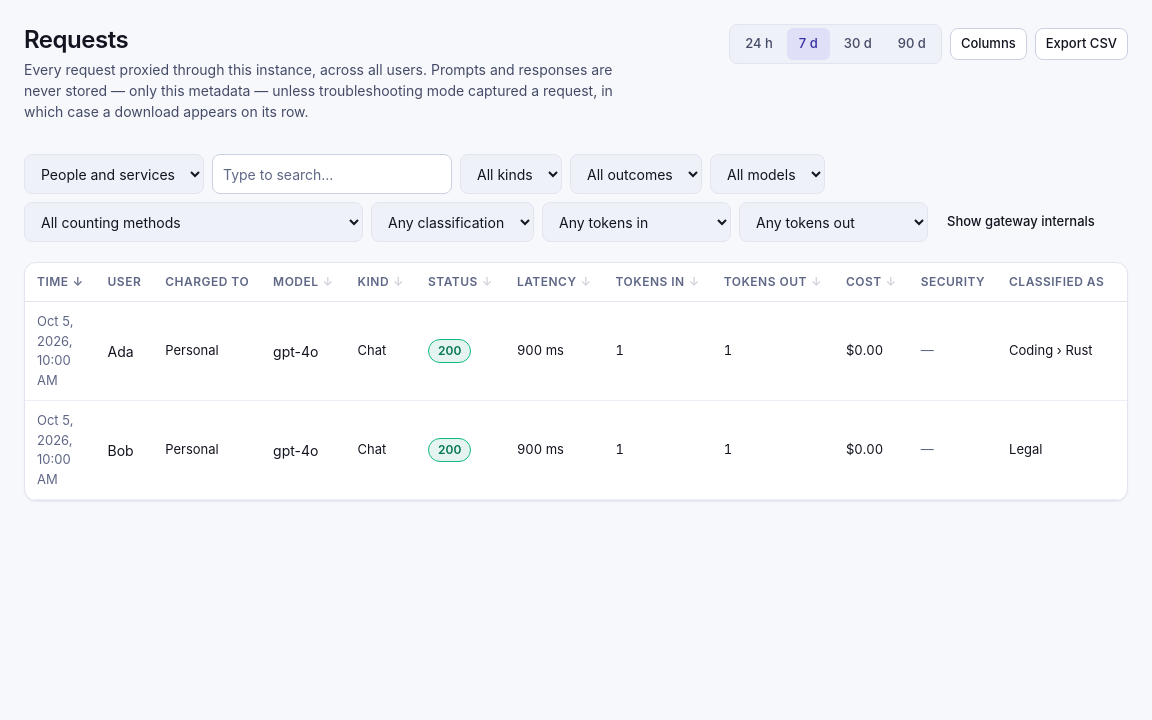
it: request log — classification › shows background labelling as not delaying the request
The width and height of the screenshot is (1152, 720).
Step 1. Click the cell "Legal" → (1057, 450), box x1=997 y1=401 x2=1116 y2=500
(page scrolled)
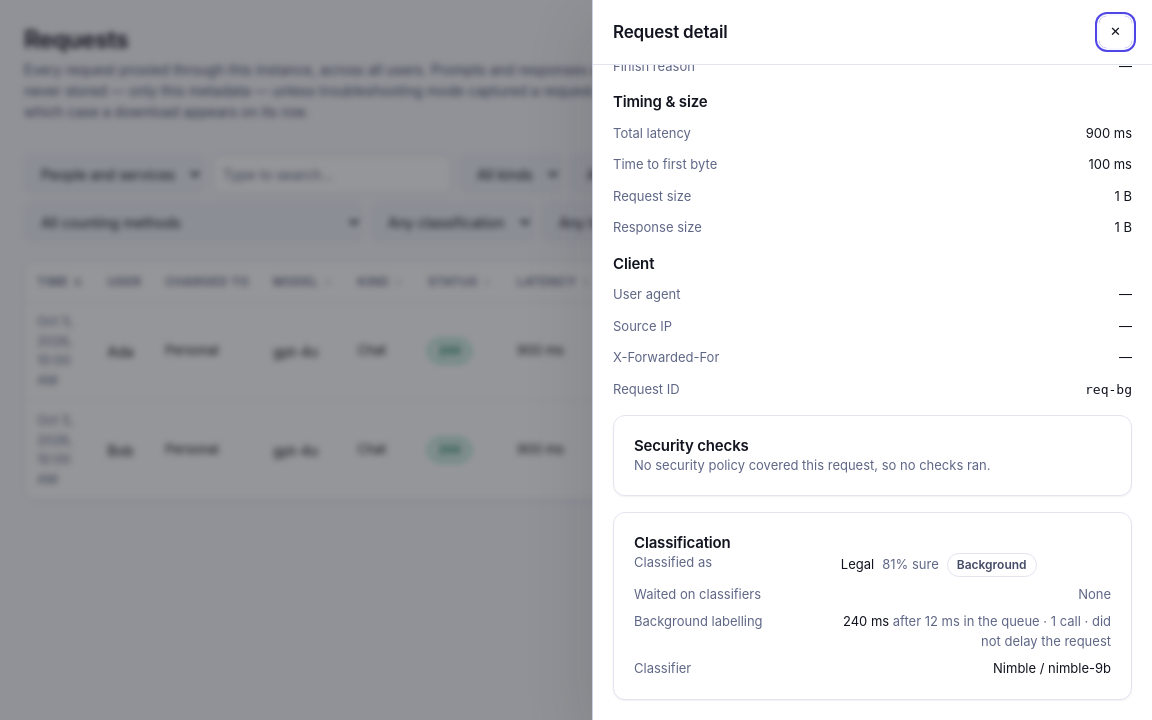
Check: the text "Background" is shown, box x1=947 y1=552 x2=1036 y2=576
Check: the text "did not delay the request" is shown, box x1=981 y1=613 x2=1111 y2=648
Check: the text "None" is shown, box x1=1078 y1=586 x2=1111 y2=602
